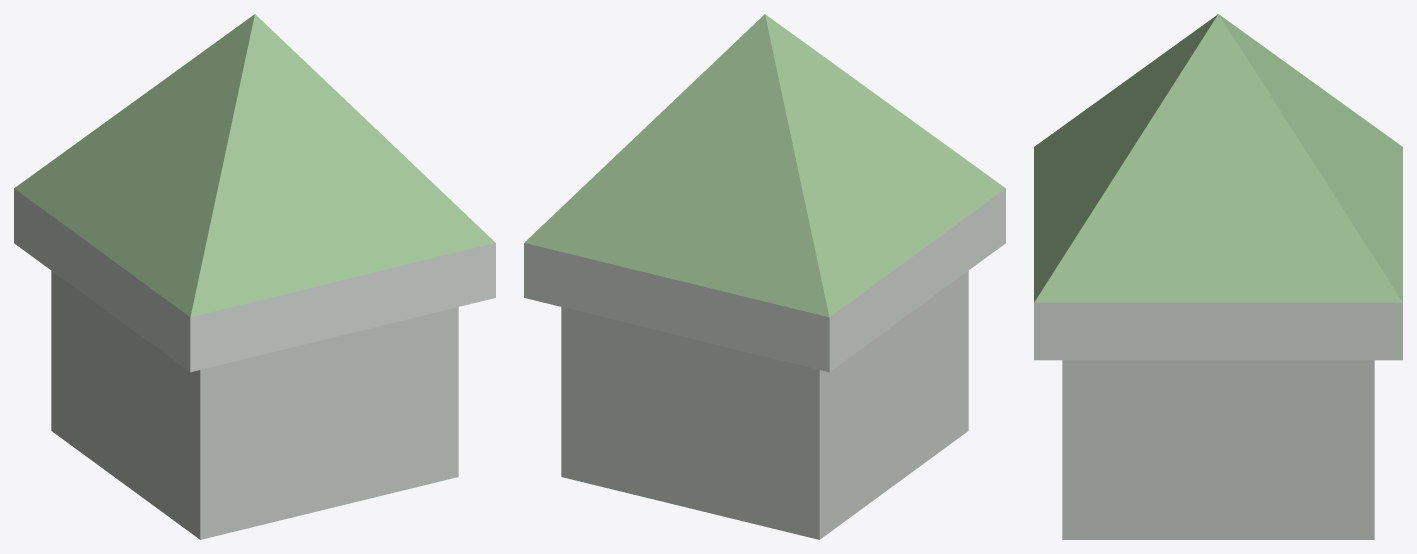
File: tower-defense-classic--tile-054.glb
3 views of the same model, side by side, from view 1: azimuth 30°, elevation 25°; view 2: azimuth 150°, elevation 25°; view 3: azimuth 270°, elevation 25° (orthographic). The views are drawn at different scales.
Parts seen in each view (by area): view 1: tile_054; view 2: tile_054; view 3: tile_054.
Boxes of the visible parts, x1,y1,x2,y2 form: tile_054: (14,14,495,539); tile_054: (524,14,1005,539); tile_054: (1034,14,1402,539).
Bounding box in the file's own units: 0.6974 × 0.96 × 0.6974.
